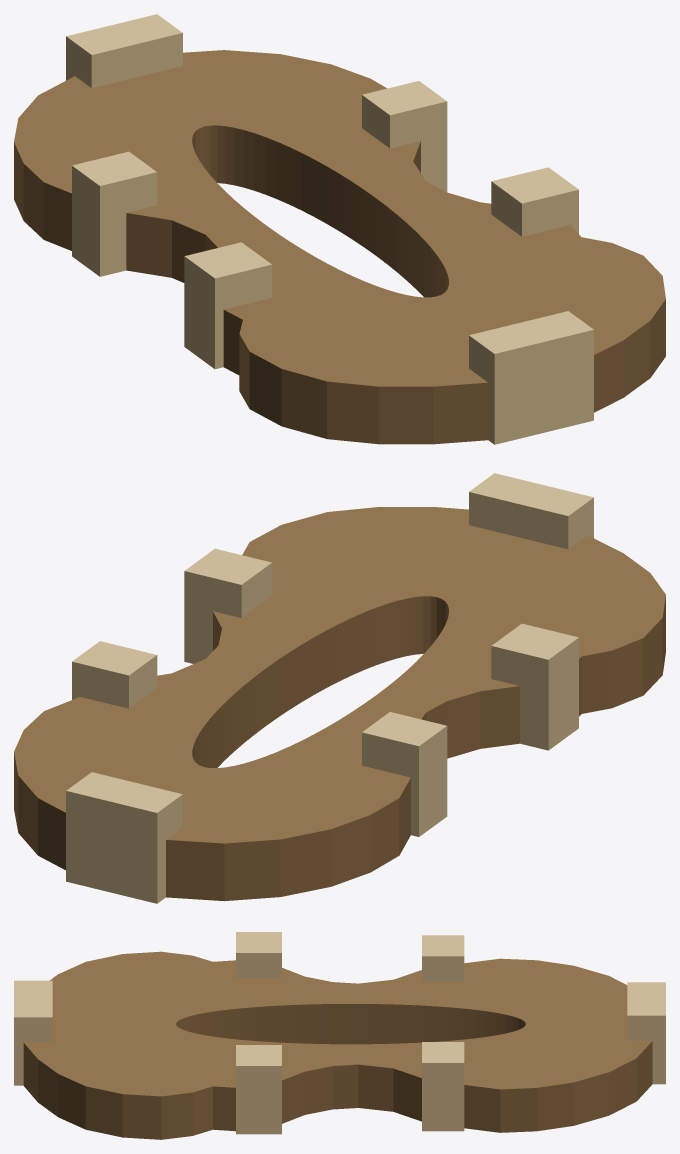
3 views of the same model, one above another, from view 1: azimuth 30°, elevation 25°; view 2: azimuth 150°, elevation 25°; view 3: azimuth 270°, elevation 25° (orthographic). The views are drawn at different scales.
Visible parts, largest first — view 1: WholeNotchedWaistedMouldWithLongThroughOpening, WholeSeatedLowerEndBlock, WholeSeatedUpperLeftBlock, WholeSeatedLowerLeftBlock, WholeSeatedUpperEndBlock, WholeSeatedUpperRightBlock, WholeSeatedLowerRightBlock; view 2: WholeNotchedWaistedMouldWithLongThroughOpening, WholeSeatedUpperEndBlock, WholeSeatedLowerLeftBlock, WholeSeatedLowerEndBlock, WholeSeatedUpperLeftBlock, WholeSeatedLowerRightBlock, WholeSeatedUpperRightBlock; view 3: WholeNotchedWaistedMouldWithLongThroughOpening, WholeSeatedLowerRightBlock, WholeSeatedUpperRightBlock, WholeSeatedUpperEndBlock, WholeSeatedLowerEndBlock, WholeSeatedLowerLeftBlock, WholeSeatedUpperLeftBlock.
Part boxes in pixels (box(x1,y1,x2,y2)): WholeNotchedWaistedMouldWithLongThroughOpening: box(14, 50, 665, 444); WholeSeatedLowerEndBlock: box(469, 311, 593, 444); WholeSeatedUpperLeftBlock: box(72, 151, 157, 276); WholeSeatedLowerLeftBlock: box(184, 242, 271, 369); WholeSeatedUpperEndBlock: box(66, 14, 182, 88); WholeSeatedUpperRightBlock: box(362, 81, 447, 191); WholeSeatedLowerRightBlock: box(491, 167, 578, 236); WholeNotchedWaistedMouldWithLongThroughOpening: box(14, 507, 665, 901); WholeSeatedUpperEndBlock: box(66, 772, 182, 903); WholeSeatedLowerLeftBlock: box(491, 623, 578, 750); WholeSeatedLowerEndBlock: box(469, 473, 593, 549); WholeSeatedUpperLeftBlock: box(362, 712, 447, 836); WholeSeatedLowerRightBlock: box(184, 548, 271, 663); WholeSeatedUpperRightBlock: box(72, 641, 157, 708); WholeNotchedWaistedMouldWithLongThroughOpening: box(23, 951, 652, 1139); WholeSeatedLowerRightBlock: box(236, 1045, 281, 1134); WholeSeatedUpperRightBlock: box(422, 1042, 464, 1131); WholeSeatedUpperEndBlock: box(627, 982, 665, 1084); WholeSeatedLowerEndBlock: box(14, 980, 52, 1085); WholeSeatedLowerLeftBlock: box(236, 932, 281, 978); WholeSeatedUpperLeftBlock: box(422, 935, 464, 981).
Bounding box in the file's own units: 0.186 × 0.041 × 0.354.
